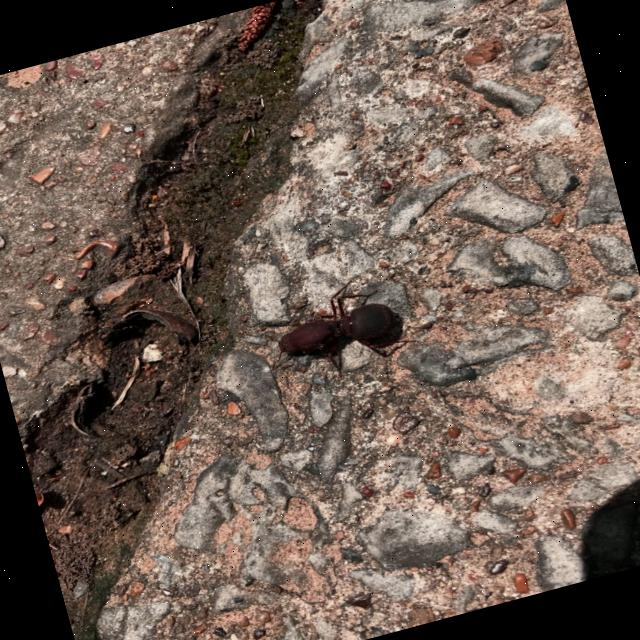Alive-Female-Dealate: (252, 266, 424, 388)
